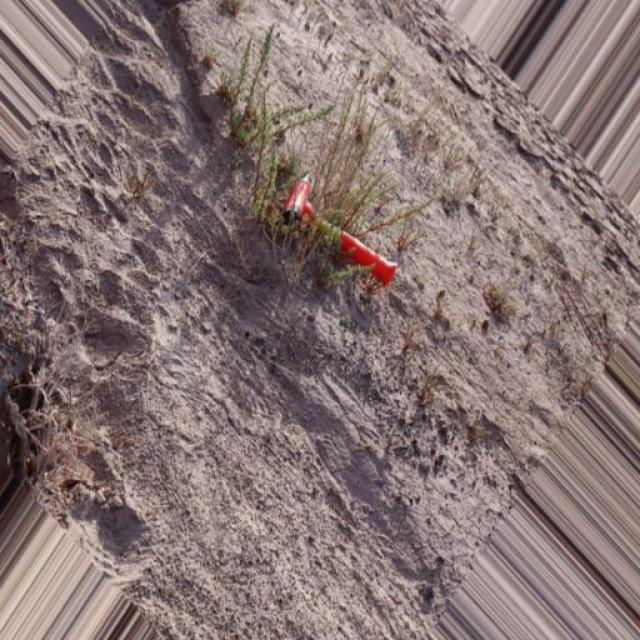mallet: (278, 172, 398, 288)
